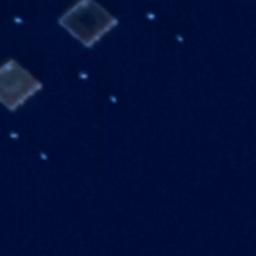square_cover: (55, 1, 125, 50), (1, 54, 45, 112)
